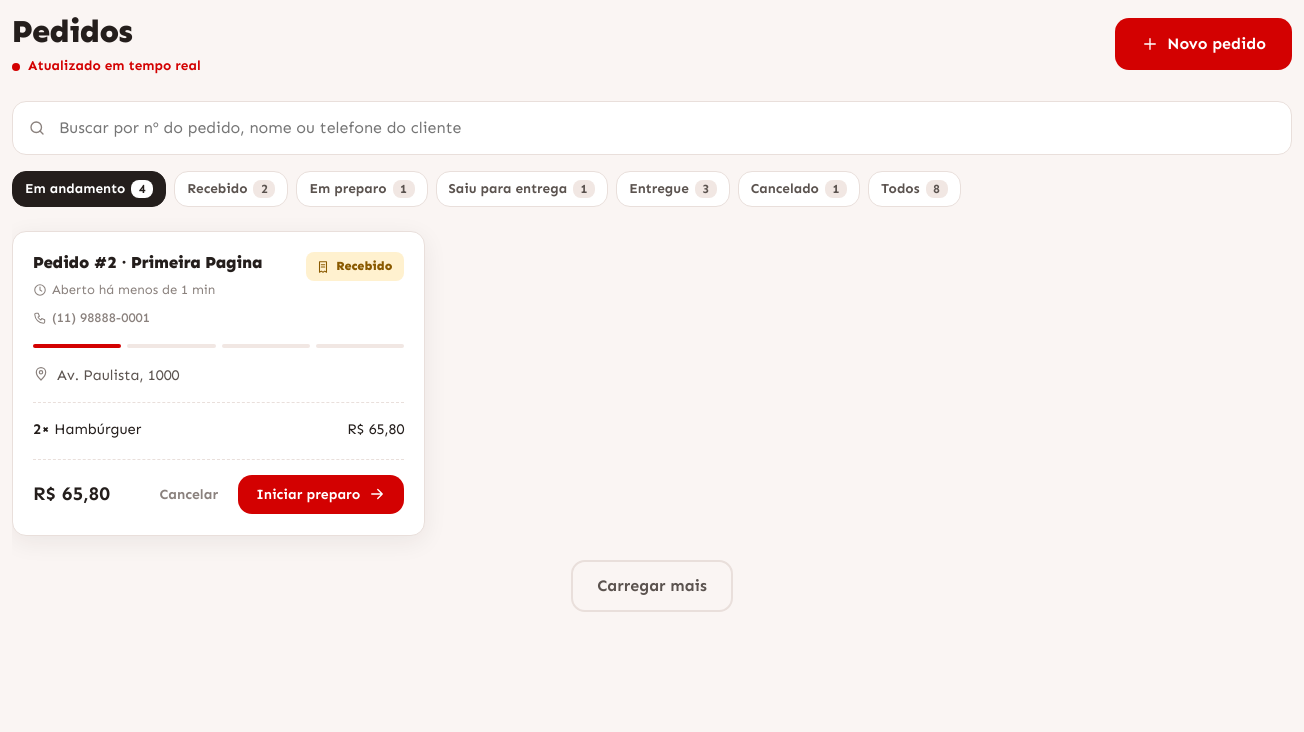
it: OrdersPage › loads the next page and appends it
This screenshot has width=1304, height=732.
Expected: the heading "Pedido #2 · Primeira Pagina" is shown, 33,252 -> 294,272
Click the button "Carregar mais" at (652, 586), box 571,560 -> 733,612
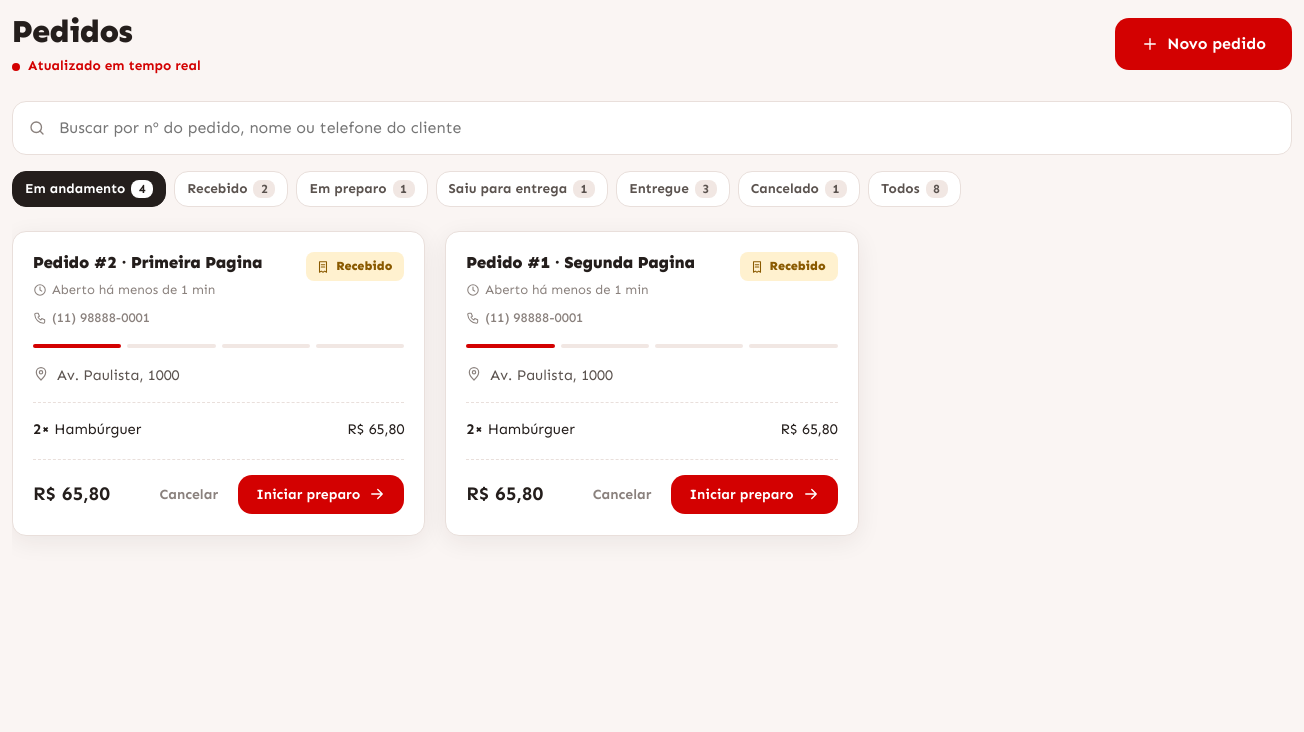
Expected: the heading "Pedido #2 · Primeira Pagina" is shown, 33,252 -> 294,272
Result: the heading "Pedido #1 · Segunda Pagina" is shown at 466,252 -> 728,272
Result: the button "Carregar mais" is gone
